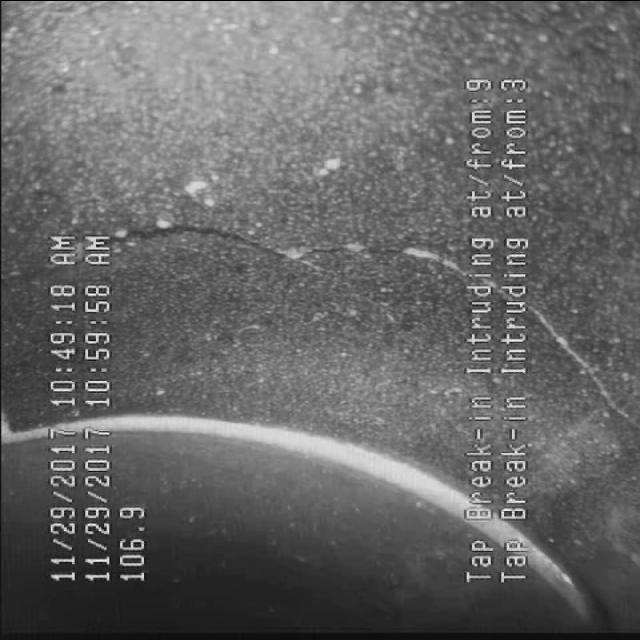Crack: (140, 188, 442, 284)
